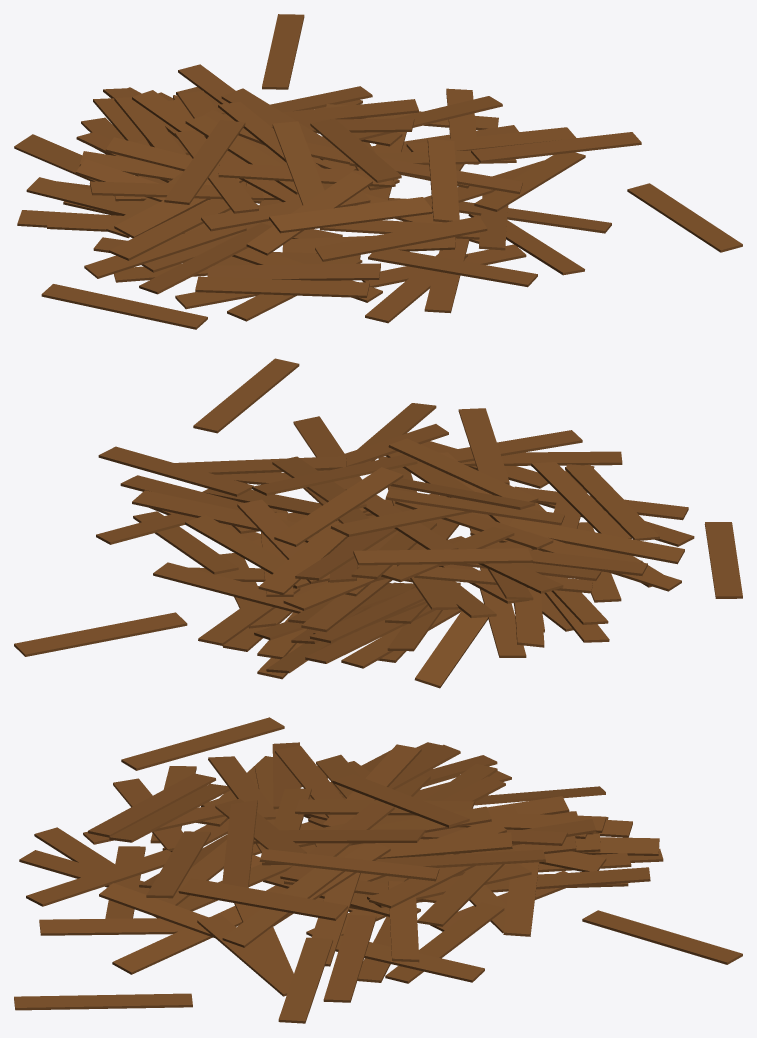
Rendered from pila grande maderas.fbx.
The picture shows the model from 3 angles, top to bottom: view 1: azimuth 30°, elevation 25°; view 2: azimuth 150°, elevation 25°; view 3: azimuth 270°, elevation 25°; orthographic projection. The views are drawn at different scales.
Visible parts, largest first — view 1: pila grande maderas; view 2: pila grande maderas; view 3: pila grande maderas.
Boxes of the visible parts, x1,y1,x2,y2 form: pila grande maderas: (14, 14, 742, 329); pila grande maderas: (14, 358, 742, 688); pila grande maderas: (14, 717, 742, 1023).
Bounding box in the file's own units: 813 × 57.79 × 820.
